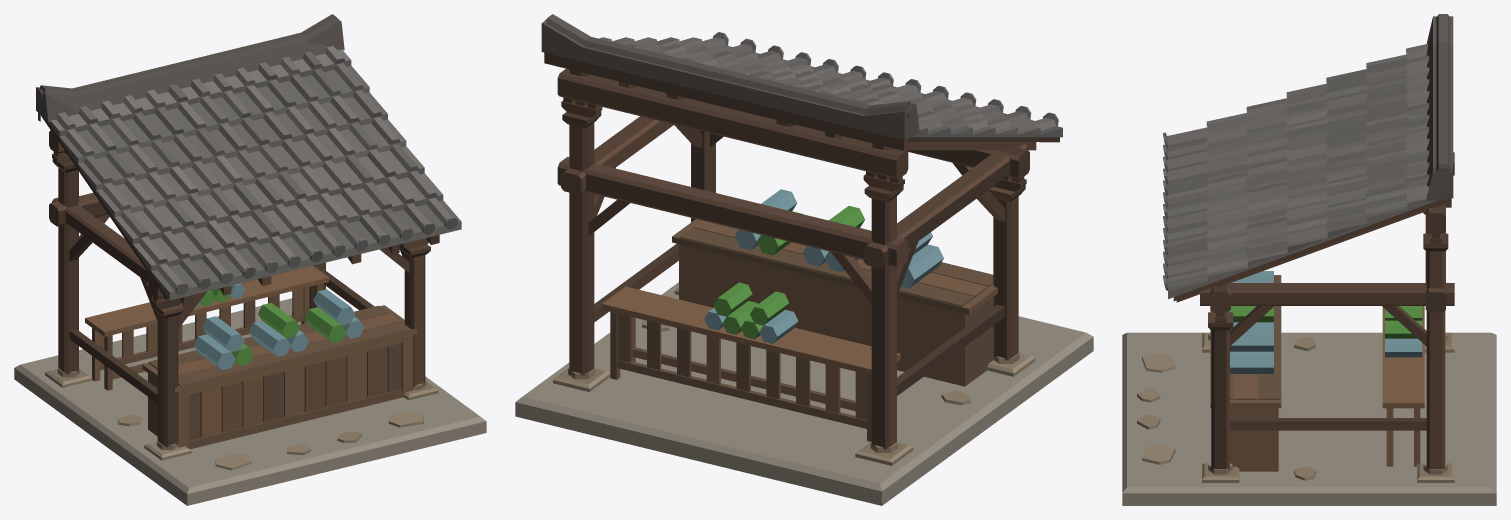
The model's file is market-stall-9d0b29.glb.
The picture shows the model from 3 angles, left to right: view 1: azimuth 30°, elevation 25°; view 2: azimuth 150°, elevation 25°; view 3: azimuth 270°, elevation 25°; orthographic projection. The views are drawn at different scales.
Parts seen in each view (by area): view 1: stall, wares-mesh; view 2: stall, wares-mesh; view 3: stall, wares-mesh.
Part boxes in pixels (x1,y1,x2,y2): stall: (14,14,486,505); wares-mesh: (181,283,364,370); stall: (515,14,1093,505); wares-mesh: (704,189,943,343); stall: (1122,14,1496,505); wares-mesh: (1228,271,1422,373).
Size of the model in its own units: 4 by 3.96 by 4.
